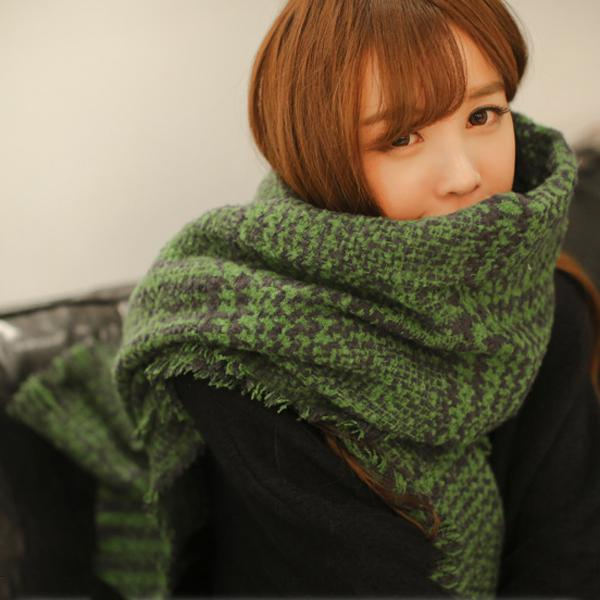WRONG: (330, 64, 525, 273)
